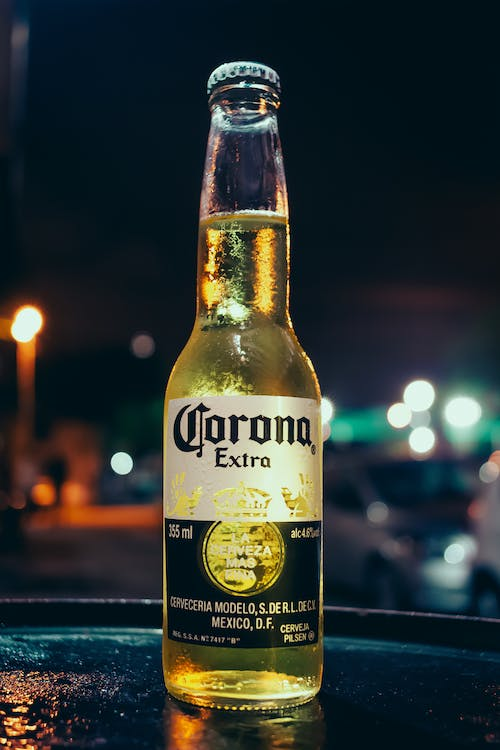alcohol: (160, 60, 325, 712)
